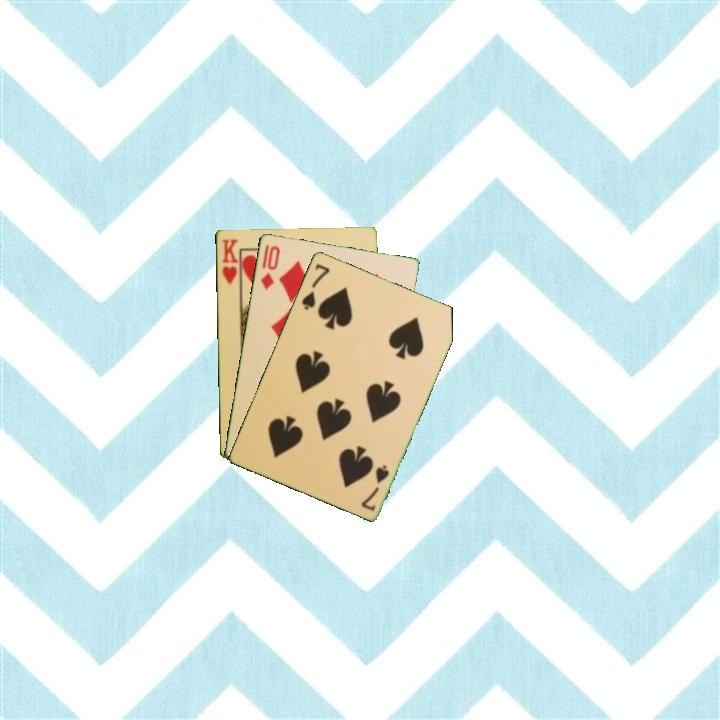10d: (257, 242, 283, 292)
7s: (298, 260, 333, 313), (357, 461, 392, 514)
Kh: (218, 235, 242, 291)
